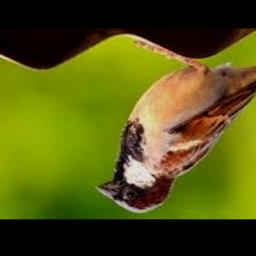Sparrow: (93, 38, 256, 213)
